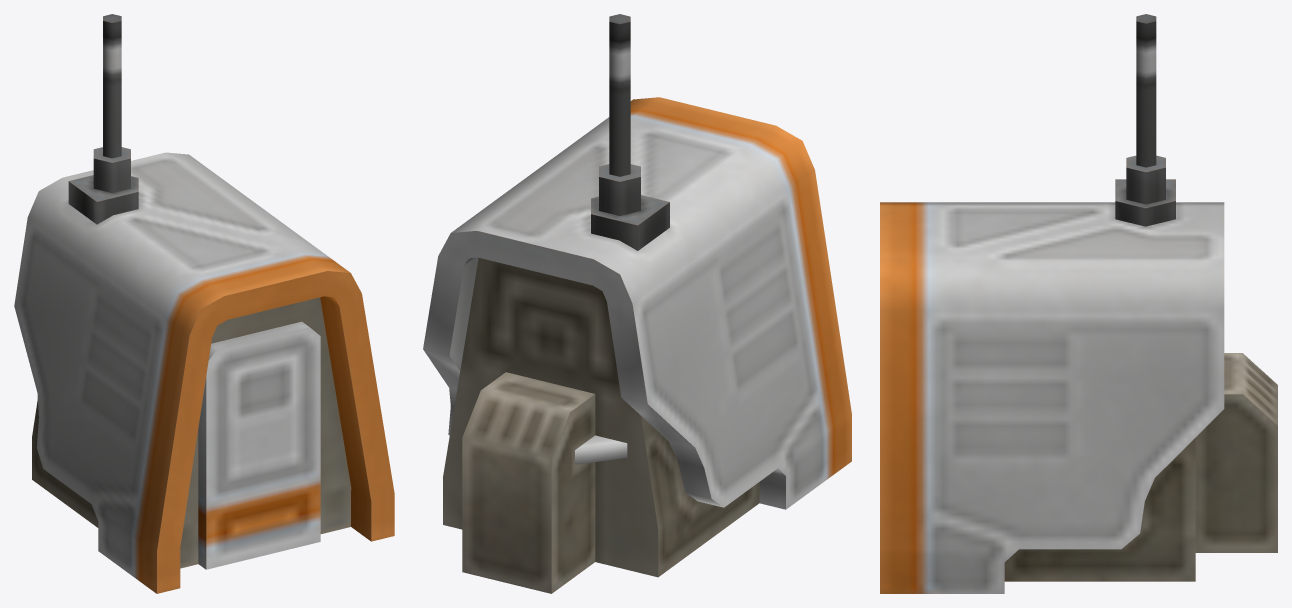
File: Guard_Booth.FBX
The picture shows the model from 3 angles, left to right: view 1: azimuth 30°, elevation 25°; view 2: azimuth 150°, elevation 25°; view 3: azimuth 270°, elevation 25°; orthographic projection. The views are drawn at different scales.
Parts seen in each view (by area): view 1: Guard_Booth; view 2: Guard_Booth; view 3: Guard_Booth.
Boxes of the visible parts, x1,y1,x2,y2 form: Guard_Booth: [14, 14, 394, 593]; Guard_Booth: [423, 14, 851, 593]; Guard_Booth: [880, 14, 1277, 593].
Bounding box in the file's own units: 283 × 528 × 386.
